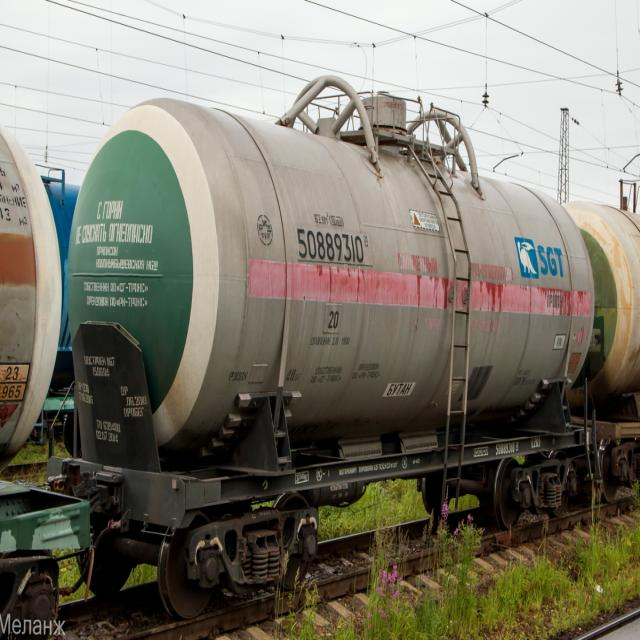tank: (64, 40, 599, 627), (0, 96, 94, 639), (563, 166, 640, 505)
